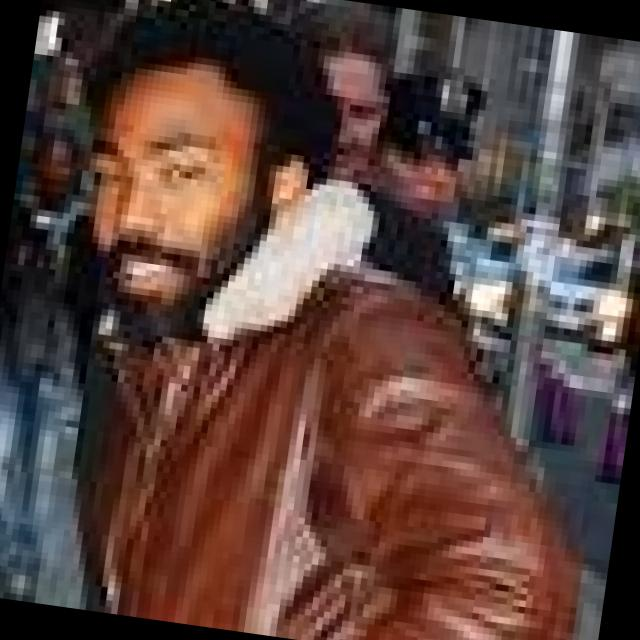Jacket: (34, 279, 625, 640)
